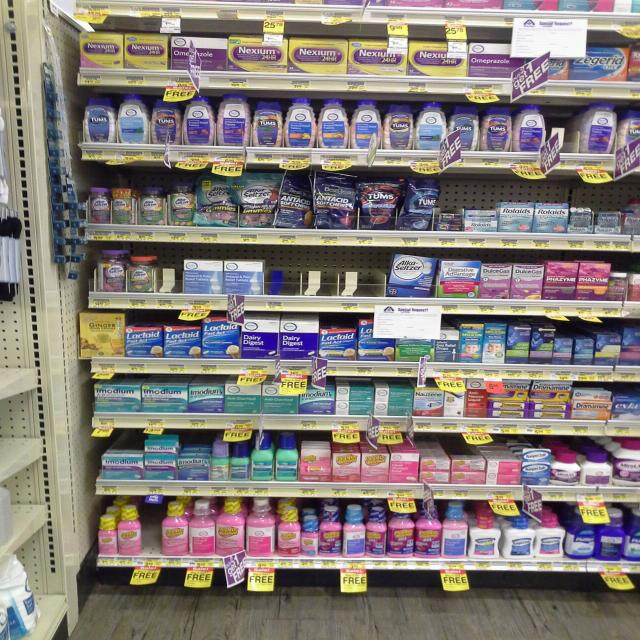empty: (270, 249, 383, 304), (548, 108, 578, 156), (157, 251, 187, 299), (142, 501, 162, 548)
